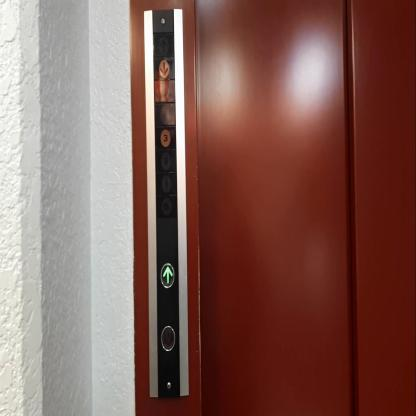1: (155, 170, 178, 196)
2: (154, 147, 178, 173)
3: (154, 124, 177, 150)
B1: (155, 192, 178, 218)
blur: (153, 77, 176, 103), (154, 99, 176, 126)
down: (152, 54, 176, 81), (160, 324, 176, 352)
up: (152, 30, 175, 58), (159, 262, 175, 288)
